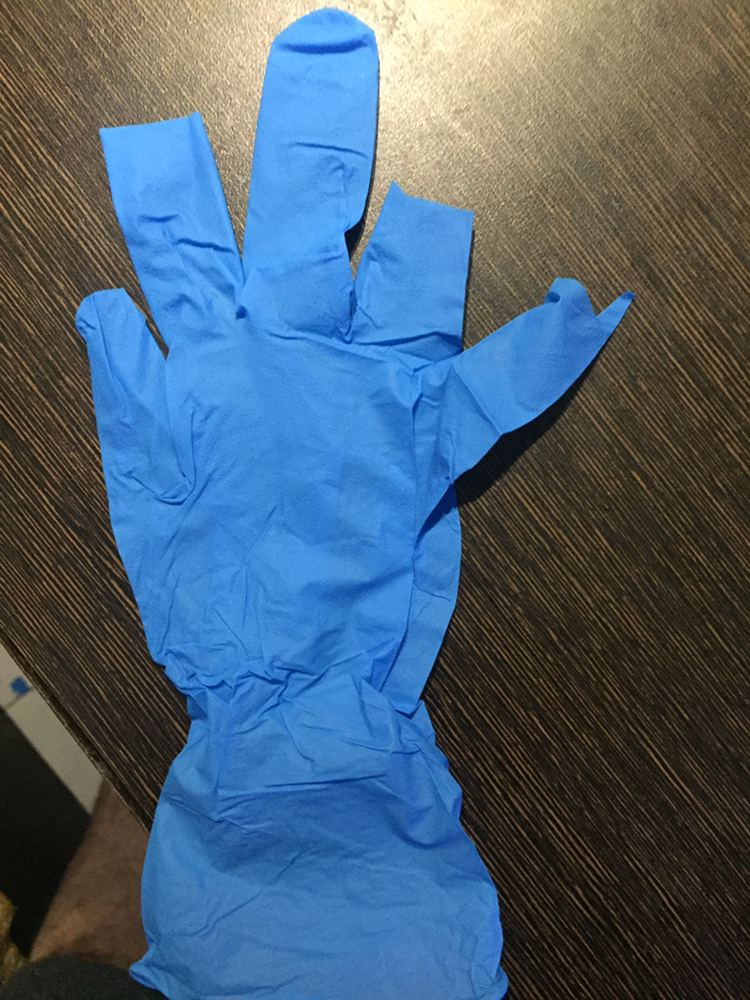defected: (62, 6, 703, 874)
